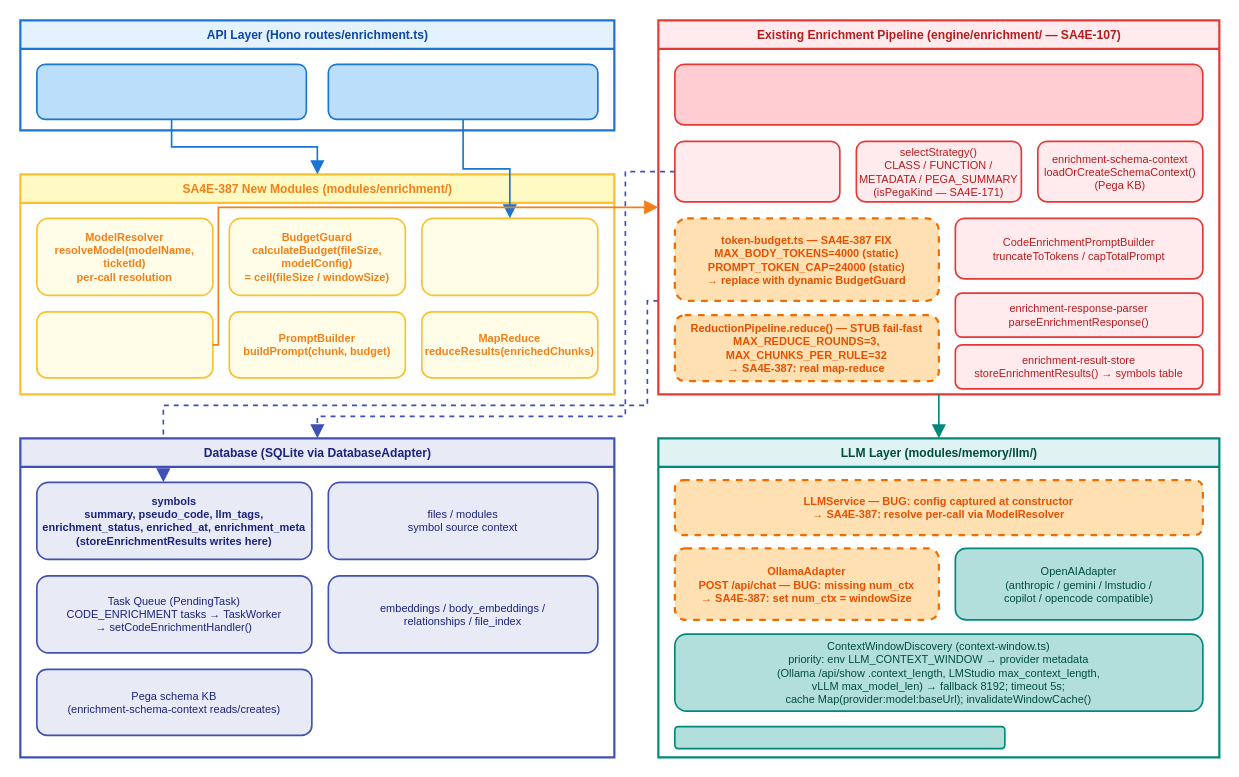
Image size: 1239x777. Some labels were removed from this diagram. The centre of each missing label's shape, as x and y in pixels:
callLLMWithTimeout LLM_ENRICH_TIMEOUT_MS default 120s (BR-02): the point at 839,737
CodeEnrichmentHandler.enrichSymbol(PendingTask) facade — strategy pattern: the point at 938,94
ContextWindowDiscovery discoverWindow / invalidateCache: the point at 509,256
EnrichmentEngine enrichChunk(chunk, modelConfig, budget): the point at 124,344
POST /enrich {symbol, filePath, model, budget?}: the point at 171,91
POST /model/swap {model, ticketId}: the point at 462,91
symbol-context-loader loadSymbolContext(): the point at 757,171
